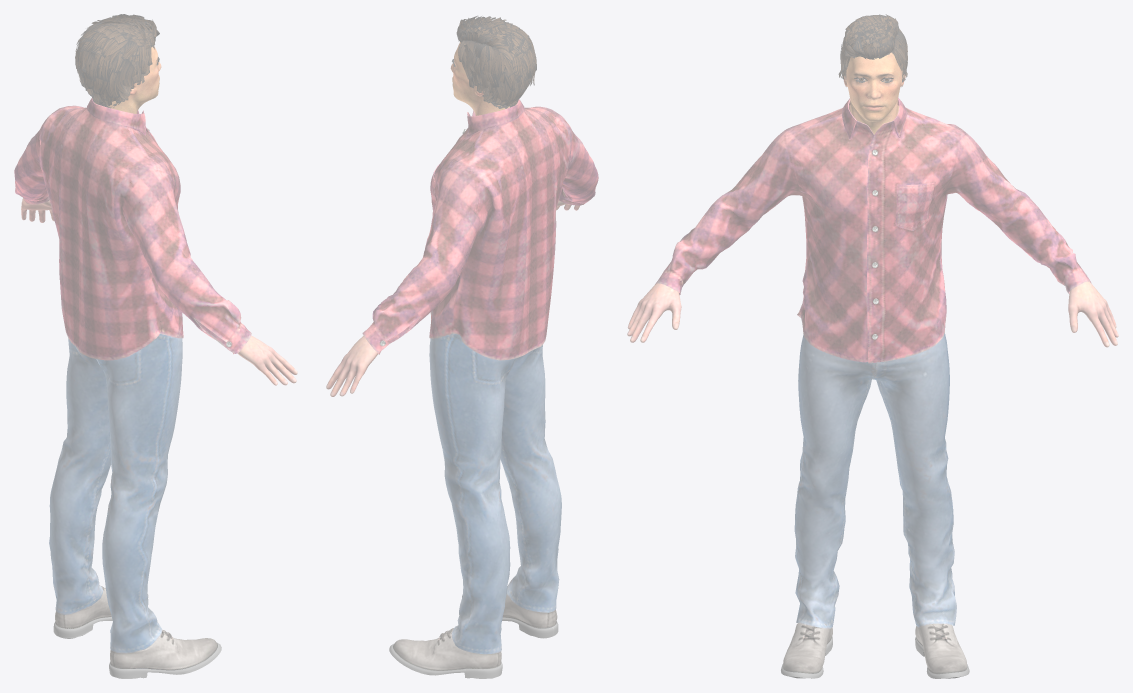
Rendered from people1.glb.
3 renders of one model, left to right at view 1: azimuth 30°, elevation 25°; view 2: azimuth 150°, elevation 25°; view 3: azimuth 270°, elevation 25°, orthographic.
Parts seen in each view (by area): view 1: body; view 2: body; view 3: body.
Part boxes in pixels (x1,y1,x2,y2): body: (14,14,297,678); body: (326,15,598,678); body: (627,14,1118,678).
Bounding box in the file's own units: 0.3511 × 1.87 × 1.31.
Materials: 4 (4 with a texture image).
